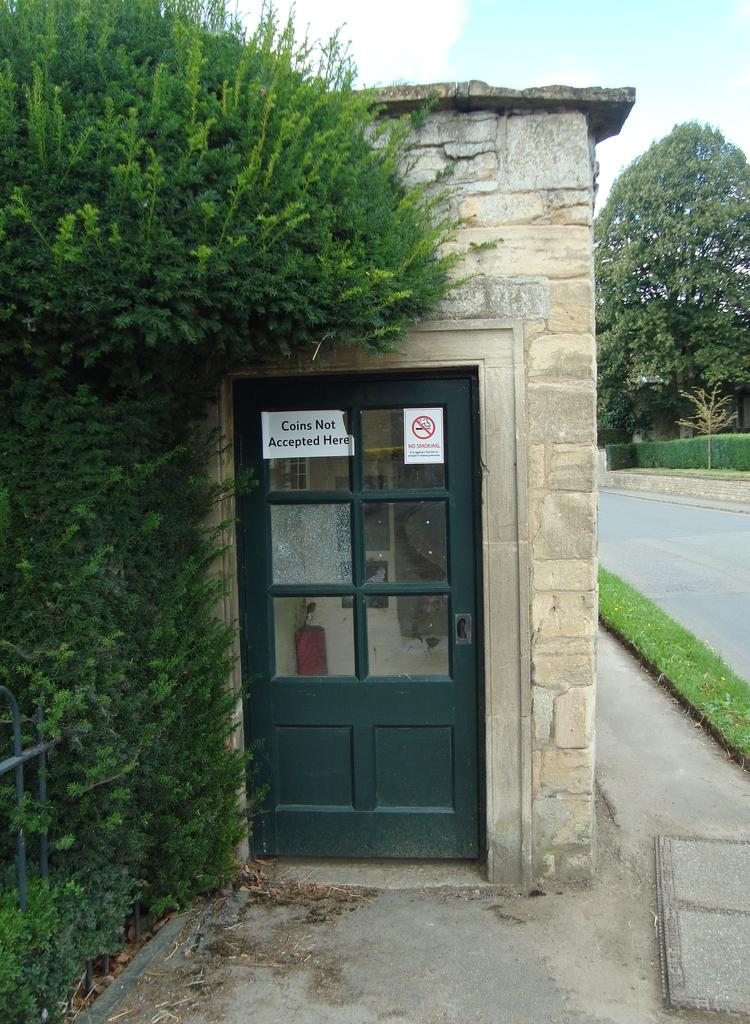handle: (454, 604, 474, 646)
